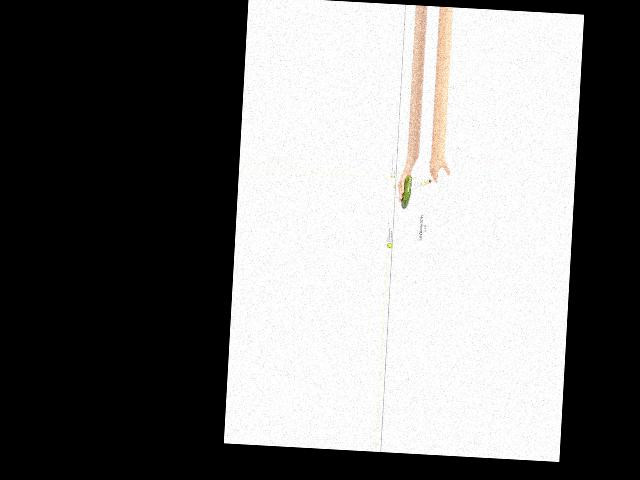cucumber: (400, 174, 411, 208)
